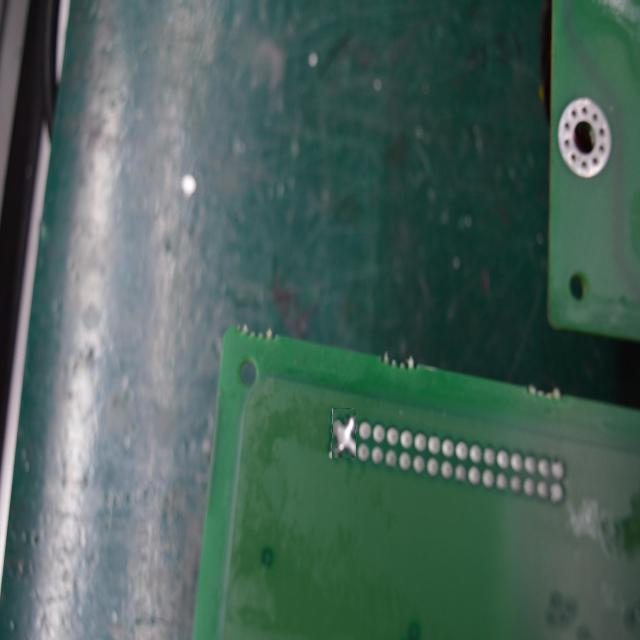Short_circuit: (332, 408, 356, 458)
